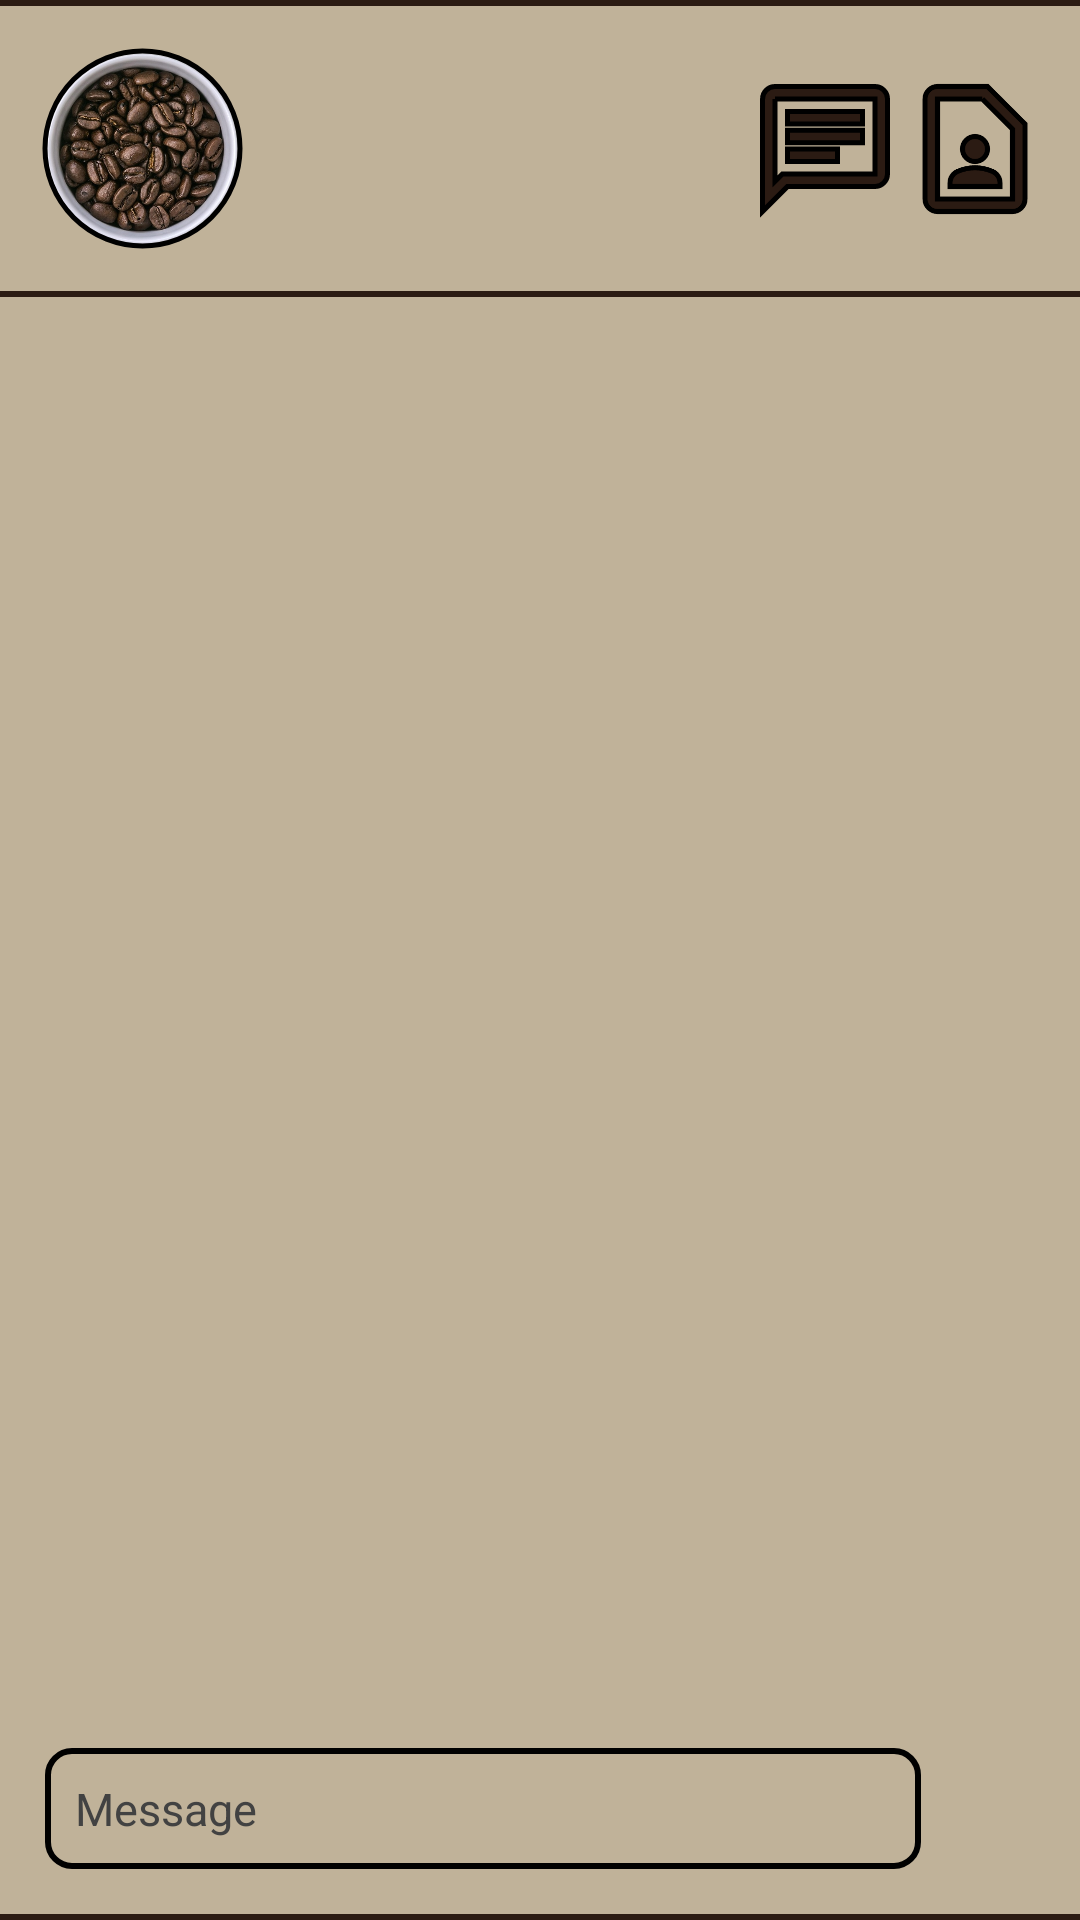

Icons on this 1080×1920 Android screen, each with its box as (x1, y1, x2, y2):
Back to the chatlist: (760, 84, 890, 218)
